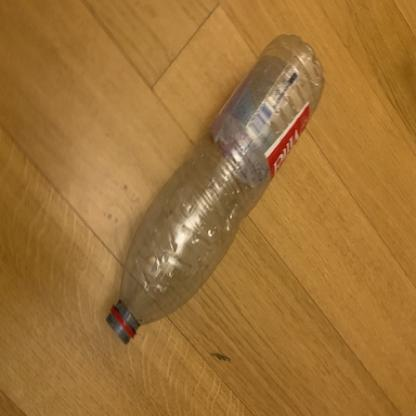trash: (103, 33, 326, 347)
